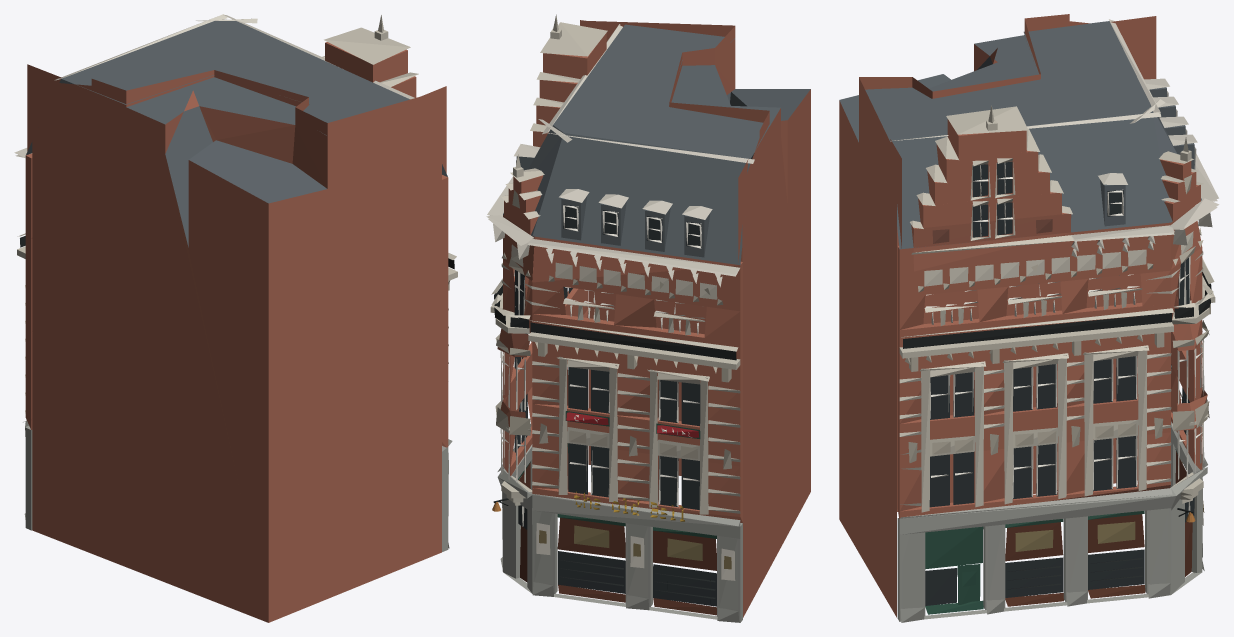
Rendered from old-bell-rembrandtplein.lod1.glb.
The picture shows the model from 3 angles, left to right: view 1: azimuth 30°, elevation 25°; view 2: azimuth 150°, elevation 25°; view 3: azimuth 270°, elevation 25°; orthographic projection. The views are drawn at different scales.
Parts seen in each view (by area): view 1: old-bell-rembrandtplein; view 2: old-bell-rembrandtplein; view 3: old-bell-rembrandtplein.
Boxes of the visible parts, x1=… form: old-bell-rembrandtplein: x1=14, y1=14, x2=457, y2=622; old-bell-rembrandtplein: x1=486, y1=14, x2=810, y2=622; old-bell-rembrandtplein: x1=839, y1=14, x2=1219, y2=622.
Size of the model in its own units: 14.79 by 23.22 by 15.78.
